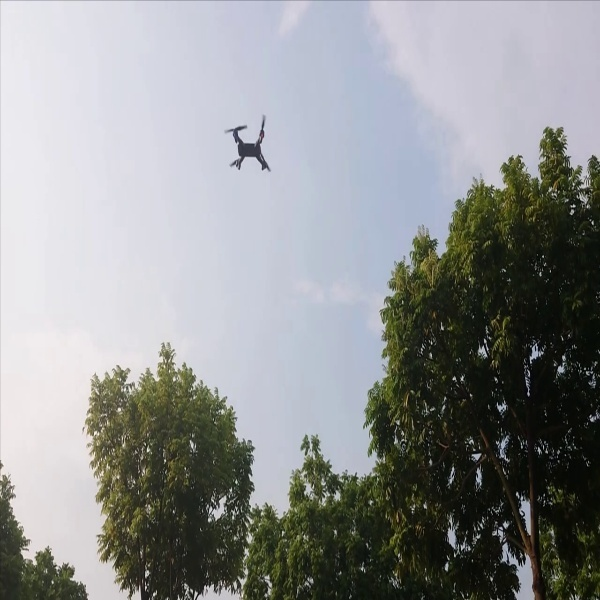drone: (218, 113, 283, 184)
